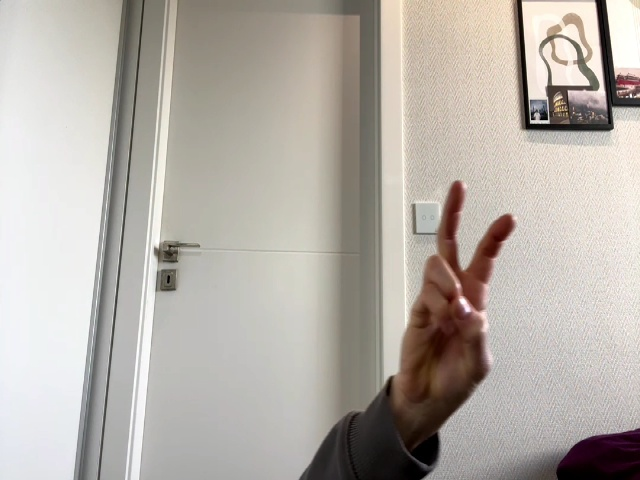H: (400, 181, 518, 424)
